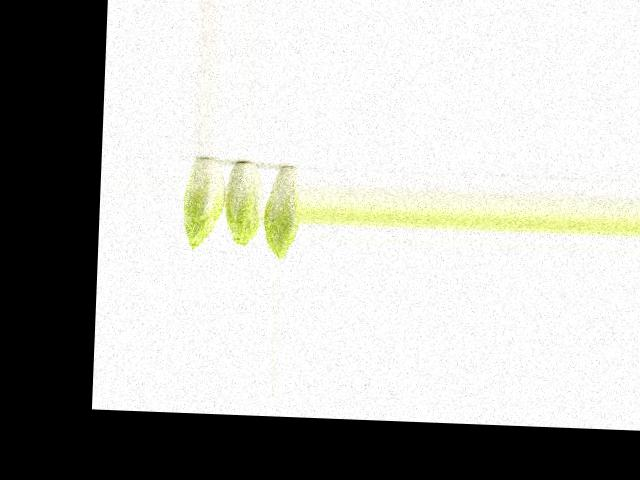lettuce: (181, 153, 225, 251)
